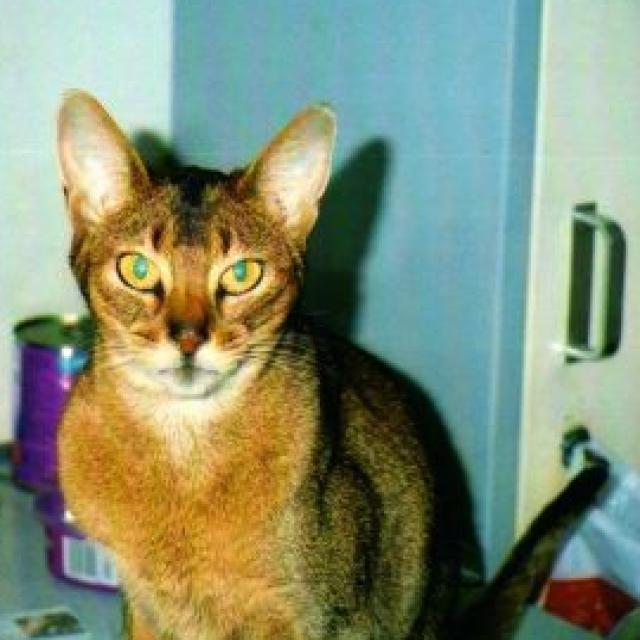Abyssinian: (49, 83, 611, 640)
